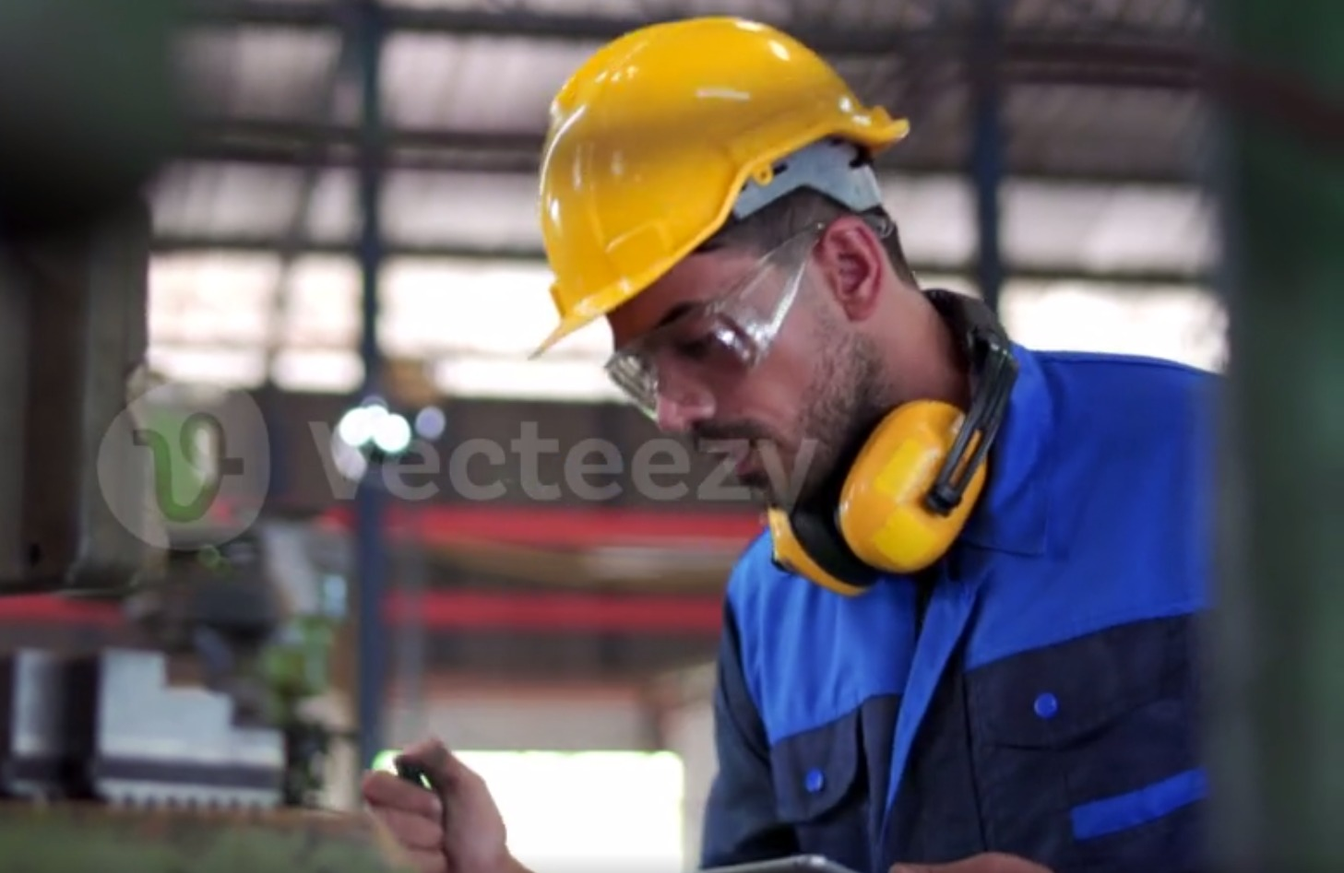safety_helmet: (527, 14, 911, 359), (758, 285, 1019, 597)
